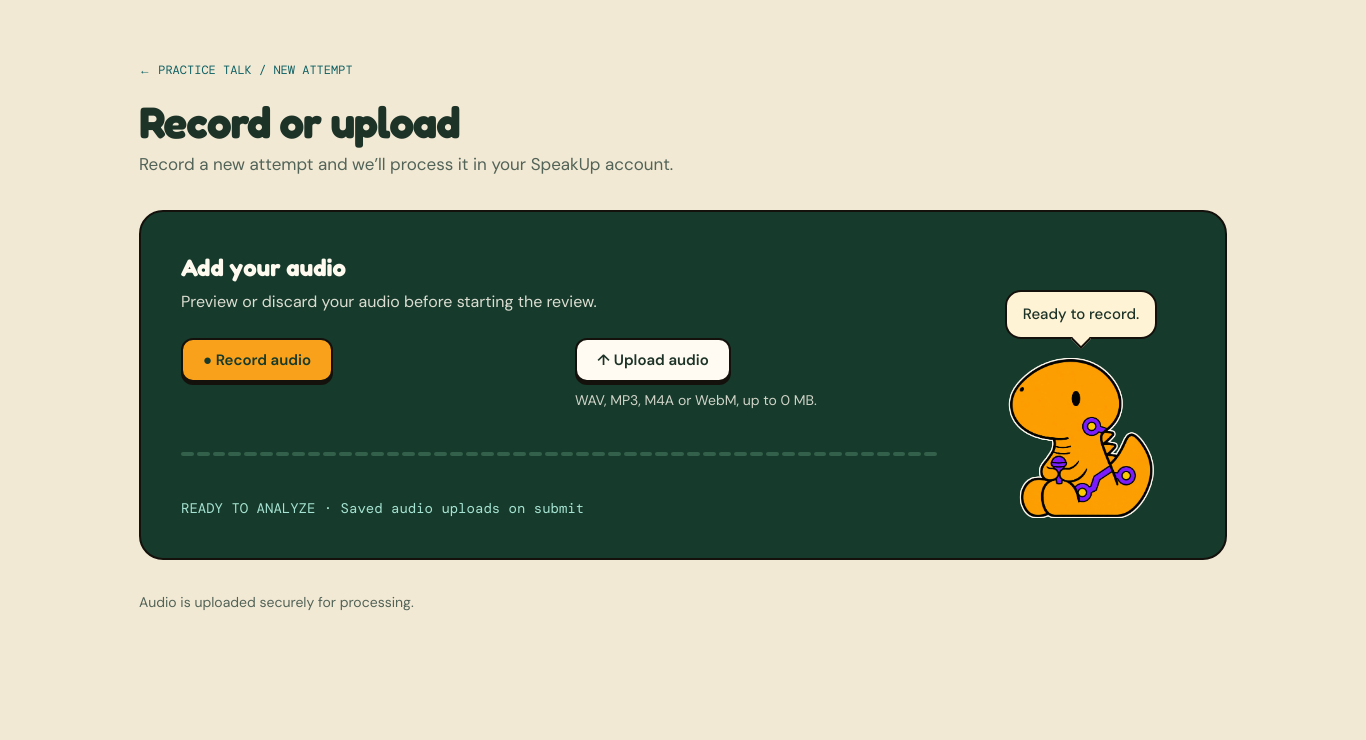
Scenario: new attempt live recording › shows live words and submits the completed recording through the page
The width and height of the screenshot is (1366, 740).
Later steps or results of the test are not shown.
What coordinates should you click on to do the following:
click the button "● Record audio"
I would click on:
 (257, 360)
Its box is [181,338,333,382].
Wait 3000 ms
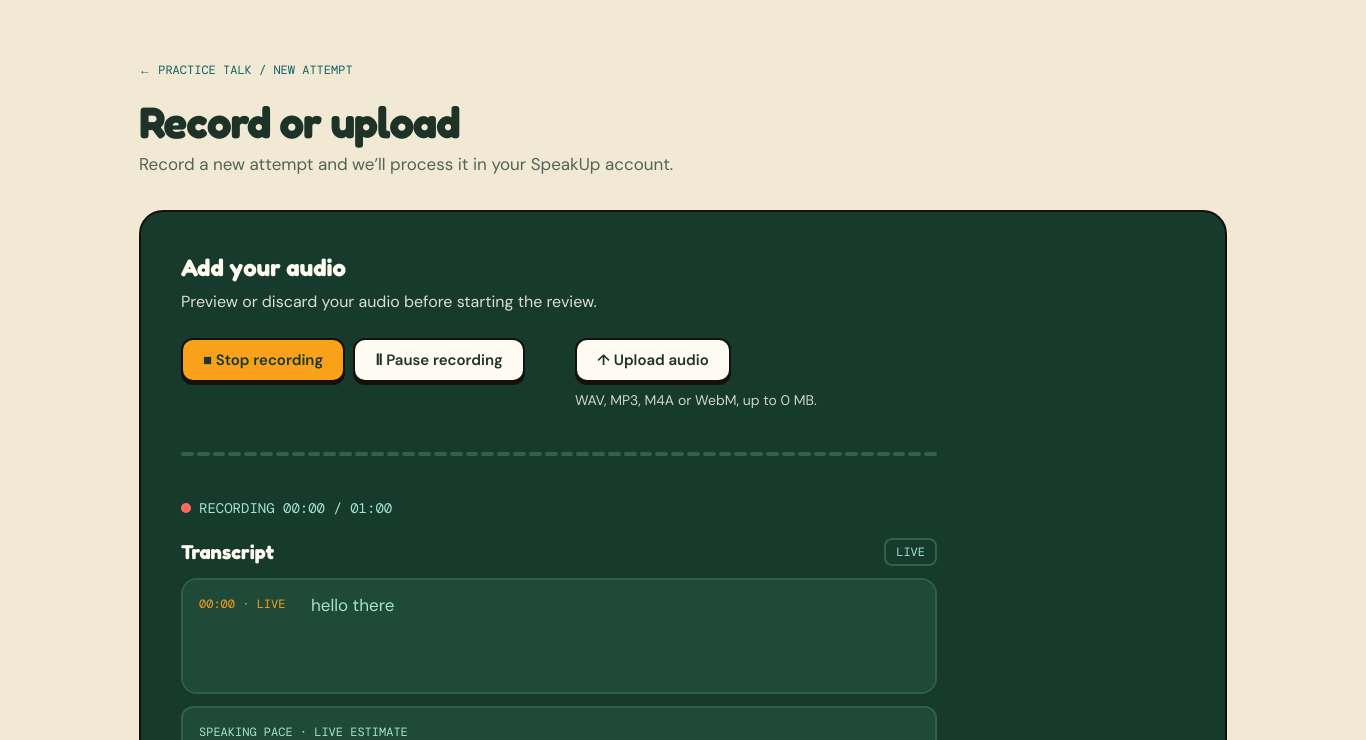
Now the element named "Live transcript" shows "hello there", box [311,594,394,616]
What coordinates should you click on to do the following:
click the button "■ Stop recording"
I would click on:
 (263, 360)
Its box is [181,338,345,382].
(page scrolled)
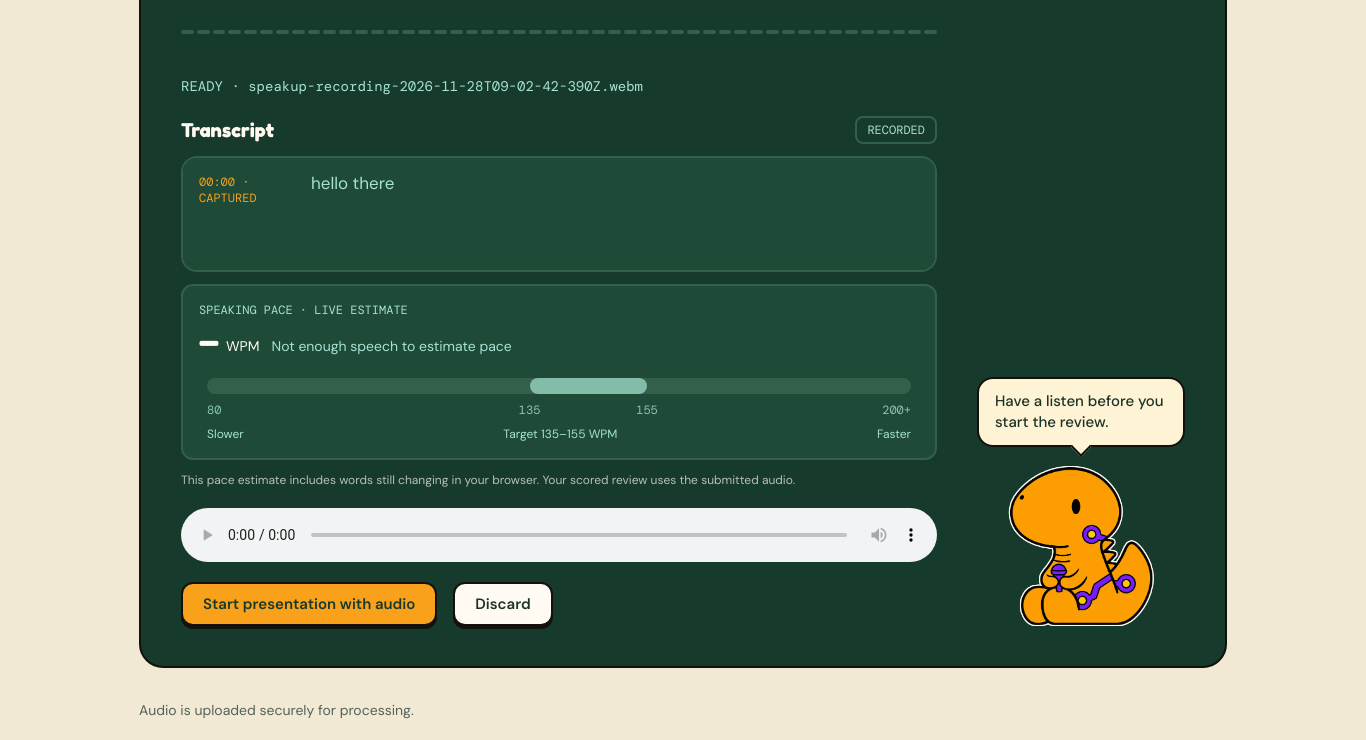
Now the element named "Live transcript" shows "hello there", box [311,172,394,194]
